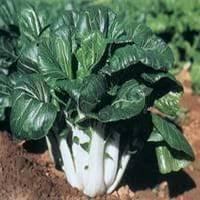Healthy-Pechay: (8, 11, 187, 184)
